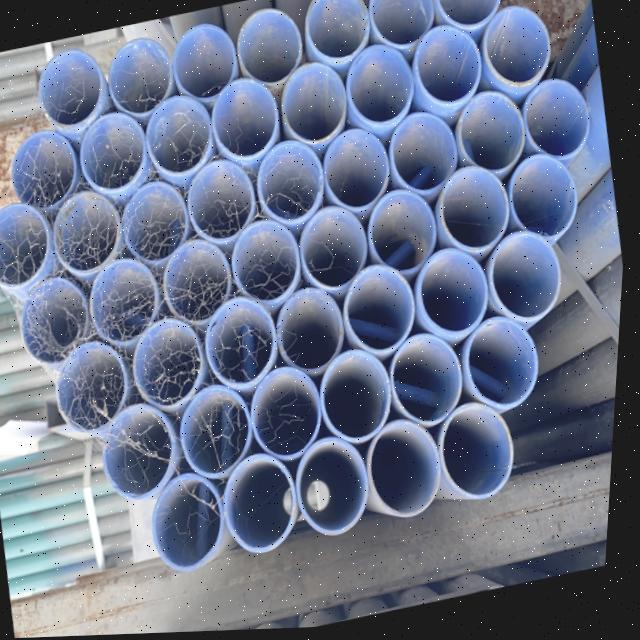pipe: (89, 404, 178, 505), (440, 401, 522, 506), (369, 419, 447, 527), (226, 454, 306, 559), (150, 473, 232, 575), (389, 330, 468, 432), (466, 315, 544, 417), (500, 153, 584, 247), (486, 232, 567, 329), (13, 273, 98, 365), (299, 437, 374, 541), (132, 316, 210, 416), (342, 263, 421, 360), (52, 339, 130, 437), (251, 369, 326, 469), (320, 348, 395, 448), (203, 297, 278, 396), (436, 164, 514, 259), (416, 246, 496, 338), (177, 387, 253, 483), (89, 256, 162, 349), (454, 90, 531, 178), (275, 286, 350, 376), (340, 41, 414, 131), (164, 236, 236, 328), (297, 207, 371, 296), (184, 157, 257, 247), (365, 190, 438, 279), (48, 191, 121, 279), (318, 128, 391, 216), (387, 114, 462, 198), (229, 220, 302, 306), (408, 27, 483, 110), (256, 140, 329, 225), (276, 62, 349, 147), (209, 76, 279, 164), (520, 78, 594, 160), (119, 177, 186, 266), (6, 128, 75, 214), (140, 92, 209, 176), (76, 112, 144, 196), (481, 11, 552, 91), (106, 35, 174, 116), (36, 48, 103, 130), (169, 22, 235, 103), (233, 9, 301, 87), (0, 202, 49, 296), (301, 0, 369, 64), (367, 0, 437, 51), (432, 0, 502, 32)
